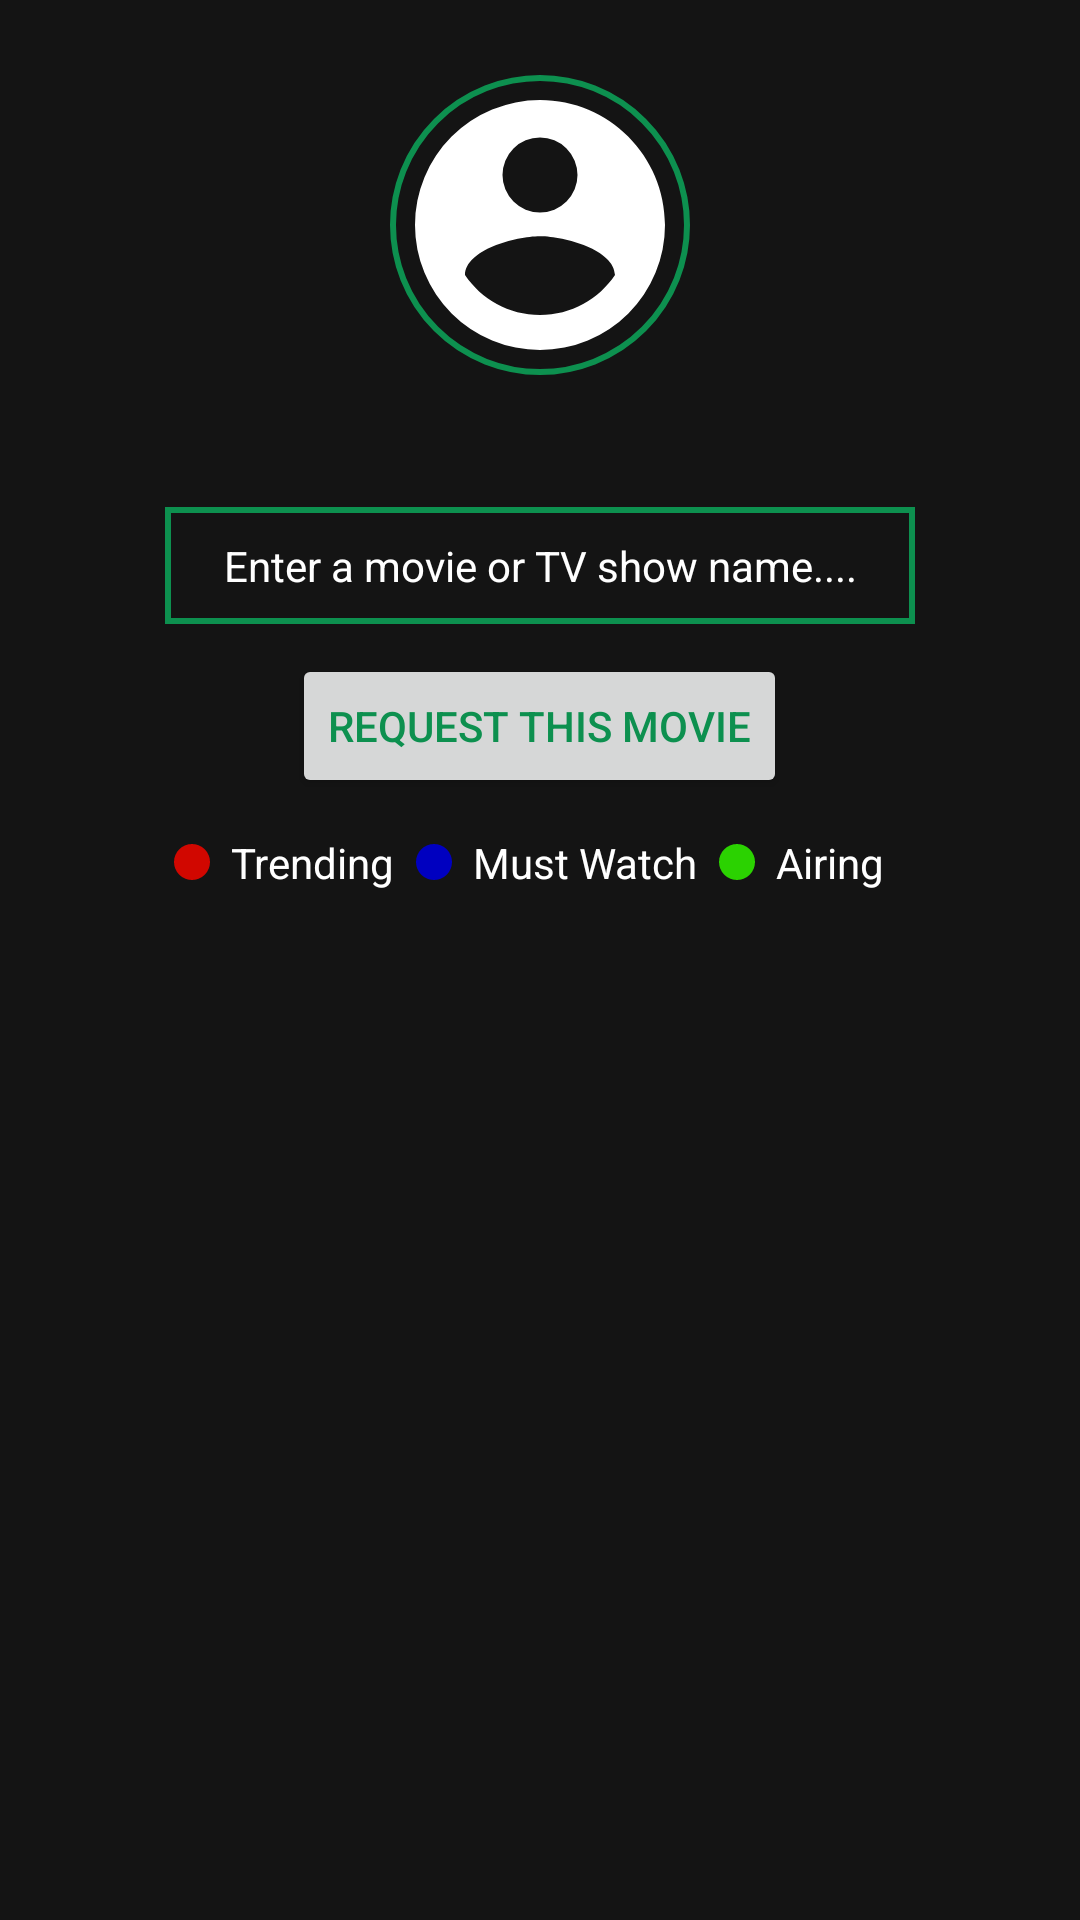

Icons on this 1080w x 1920h Android screen, each with its box as (x1, y1, x2, y2):
account circle: (390, 75, 690, 375)
